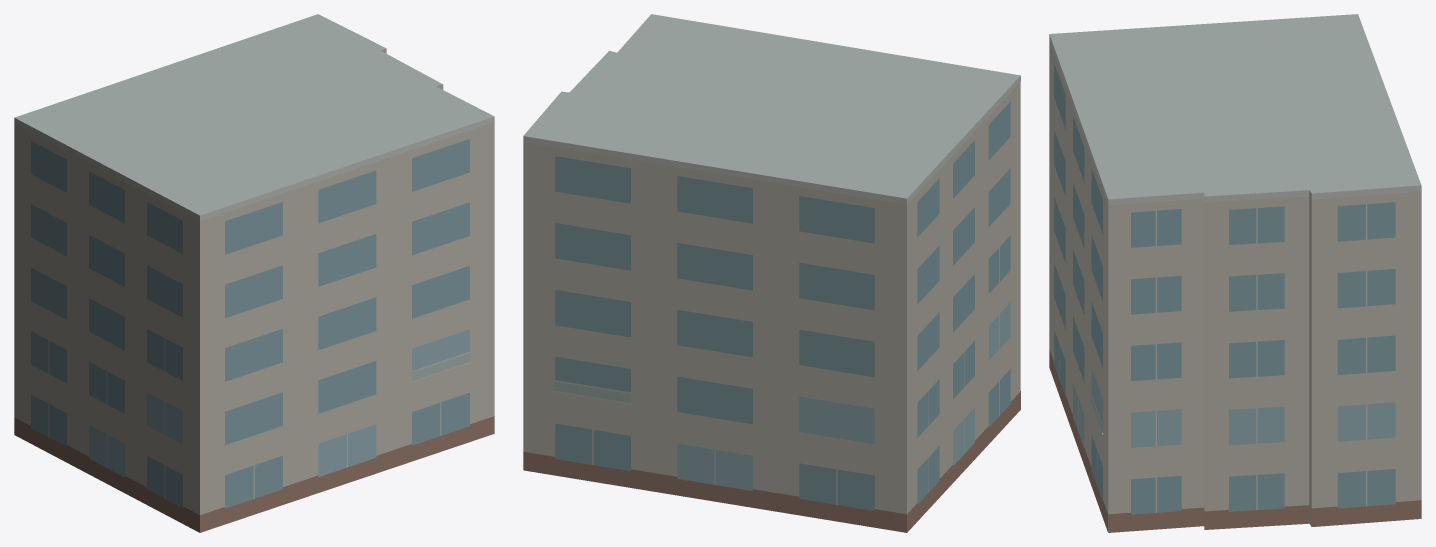
Rendered from survey-upis-32603029.glb.
3 views of the same model, side by side, from view 1: azimuth 30°, elevation 25°; view 2: azimuth 150°, elevation 25°; view 3: azimuth 270°, elevation 25° (orthographic). The views are drawn at different scales.
Visible parts, largest first — view 1: survey-upis-32603029.tmp; view 2: survey-upis-32603029.tmp; view 3: survey-upis-32603029.tmp.
Boxes of the visible parts, x1,y1,x2,y2 form: survey-upis-32603029.tmp: (14,14,494,532); survey-upis-32603029.tmp: (523,14,1020,532); survey-upis-32603029.tmp: (1049,14,1421,532).
Bounding box in the file's own units: 16.05 × 13.45 × 13.61.
